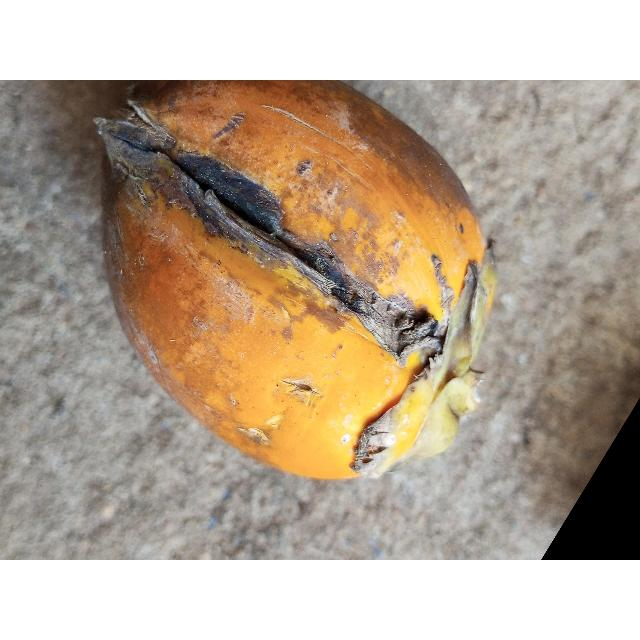damaged: (91, 80, 499, 483)
